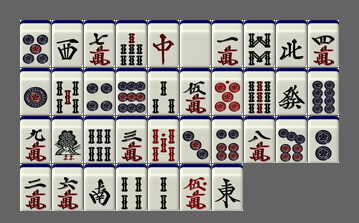0m: (180, 164, 211, 211)
0p: (212, 68, 243, 115)
0s: (148, 116, 179, 163)
1m: (212, 20, 243, 67)
1p: (20, 68, 51, 115)
1s: (52, 116, 83, 163)
1z: (212, 164, 243, 211)
2m: (20, 164, 51, 211)
2p: (308, 116, 339, 163)
2s: (148, 164, 179, 211)
2z: (84, 164, 115, 211)
3m: (116, 116, 147, 163)
3p: (180, 116, 211, 163)
3s: (148, 68, 179, 115)
3z: (52, 20, 83, 67)
4m: (308, 20, 339, 67)
4p: (84, 68, 115, 115)
4s: (116, 164, 147, 211)
4z: (276, 20, 307, 67)
5m: (180, 68, 211, 115)
5p: (20, 20, 51, 67)
5s: (52, 68, 83, 115)
5z: (180, 20, 211, 67)
6m: (52, 164, 83, 211)
6p: (212, 116, 243, 163)
6s: (84, 116, 115, 163)
6z: (276, 68, 307, 115)
7m: (84, 20, 115, 67)
7p: (276, 116, 307, 163)
7s: (116, 20, 147, 67)
7z: (148, 20, 179, 67)
8m: (244, 116, 275, 163)
8p: (308, 68, 339, 115)
8s: (244, 20, 275, 67)
9m: (20, 116, 51, 163)
9p: (116, 68, 147, 115)
9s: (244, 68, 275, 115)
